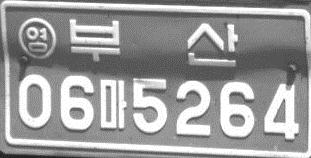0: (17, 73, 53, 130)
2: (174, 80, 211, 137)
4: (263, 82, 299, 140)
5: (131, 77, 168, 135)
6: (58, 73, 95, 132), (218, 81, 255, 140)
마: (98, 78, 128, 132)
부산_D: (67, 17, 238, 68)
영: (17, 16, 56, 59)
